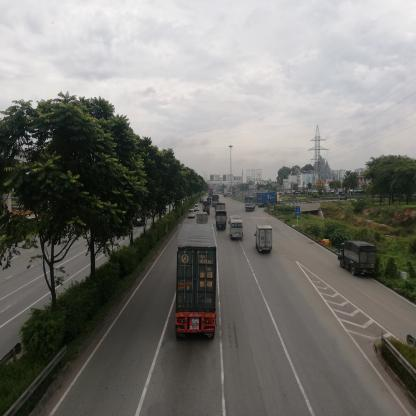bus: (231, 217, 243, 238)
car: (188, 210, 197, 220), (196, 204, 201, 211)
container: (179, 225, 218, 336), (256, 193, 284, 205)
truck: (338, 242, 378, 279), (257, 227, 273, 252), (216, 212, 228, 228), (246, 198, 257, 210), (198, 215, 209, 224), (204, 202, 210, 214), (338, 194, 347, 202), (217, 205, 227, 212), (213, 196, 219, 205)
